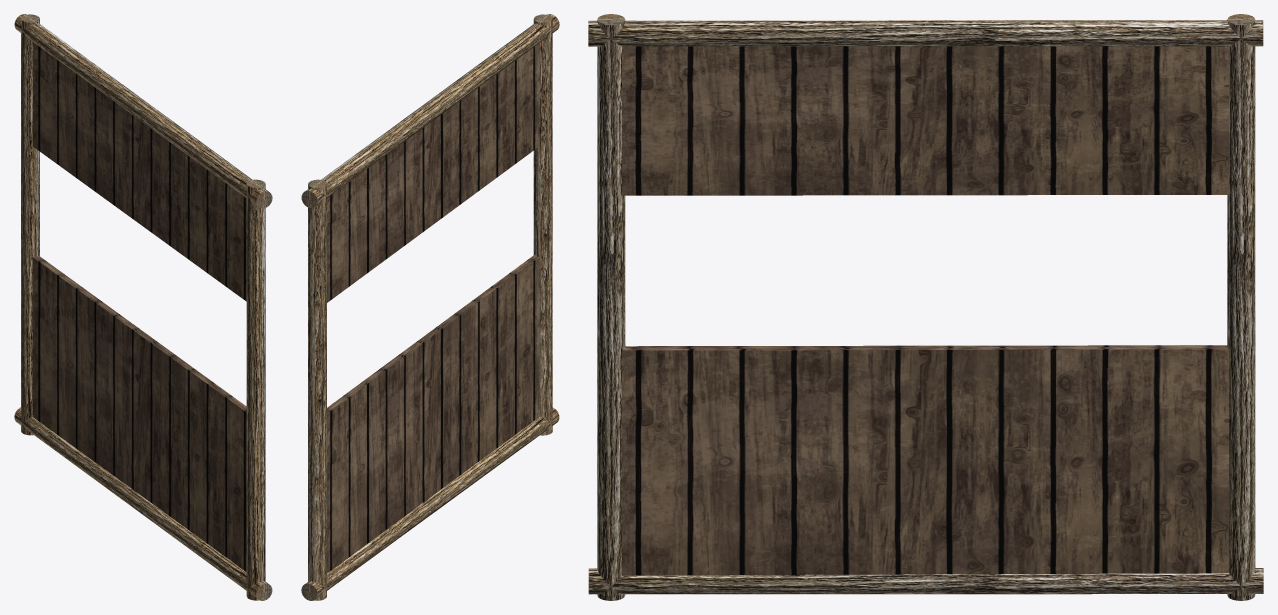
The model's file is wood window.gltf.
The picture shows the model from 3 angles, left to right: view 1: azimuth 30°, elevation 25°; view 2: azimuth 150°, elevation 25°; view 3: azimuth 270°, elevation 25°; orthographic projection. The views are drawn at different scales.
Parts seen in each view (by area): view 1: Küp1, Küp, Silindir2, Silindir3, Silindir1, Silindir; view 2: Küp1, Küp, Silindir1, Silindir2, Silindir3, Silindir; view 3: Küp1, Küp, Silindir3, Silindir1, Silindir2, Silindir.
Part boxes in pixels (box(x1,y1,x2,y2)): Küp1: box(32, 255, 246, 571); Küp: box(32, 42, 246, 301); Silindir2: box(246, 179, 265, 600); Silindir3: box(14, 14, 272, 208); Silindir1: box(21, 14, 39, 435); Silindir: box(14, 407, 272, 600); Küp1: box(327, 255, 539, 573); Küp: box(327, 43, 539, 302); Silindir1: box(308, 179, 326, 600); Silindir2: box(533, 14, 552, 435); Silindir3: box(301, 14, 559, 208); Silindir: box(301, 407, 559, 600); Küp1: box(622, 345, 1229, 575); Küp: box(622, 46, 1229, 195); Silindir3: box(588, 20, 1263, 46); Silindir1: box(1227, 14, 1255, 600); Silindir2: box(597, 14, 625, 600); Silindir: box(588, 568, 1263, 594).
Bounding box in the file's own units: 0.0866 × 2.1 × 2.23.
6 materials, 6 textured.
